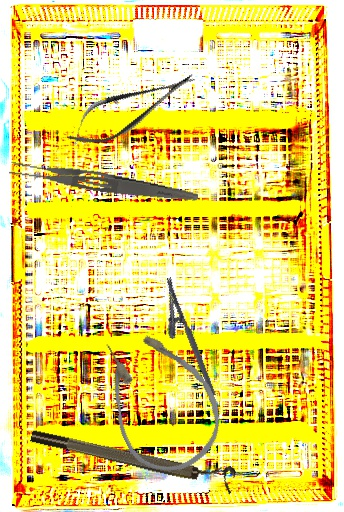Cannula: (83, 311, 237, 487)
Dressing Forceps: (8, 157, 200, 206)
Fixation Ring: (29, 417, 237, 496)
Micro Scissor: (58, 59, 205, 158)
Needle Holder: (149, 276, 217, 404)
